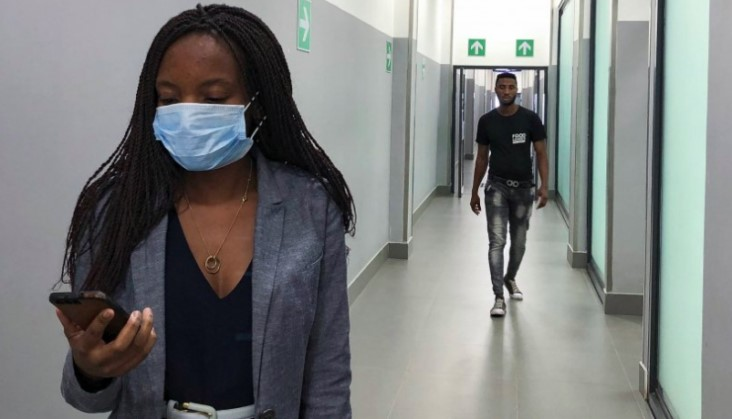face_no_mask: (494, 72, 517, 107)
face_with_mask: (147, 11, 280, 178)
